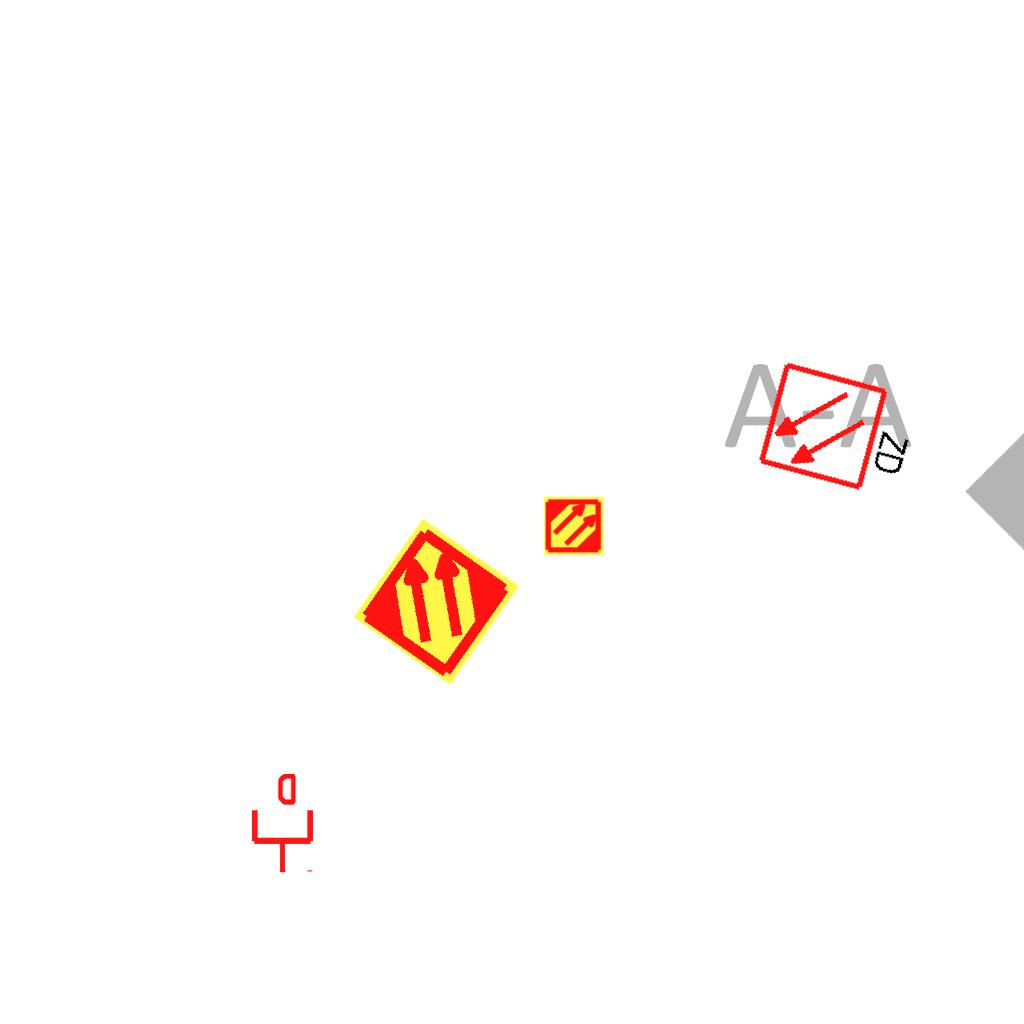ASR_Ansaugrauchmelder: (349, 514, 524, 689), (543, 495, 605, 557)
Datenanschluss_einfach: (248, 774, 317, 874)
ZD_Melder_in_Zwischendecke_mit_Revisionsoeffnung_mind_40_x_40_cm: (755, 355, 929, 504)
